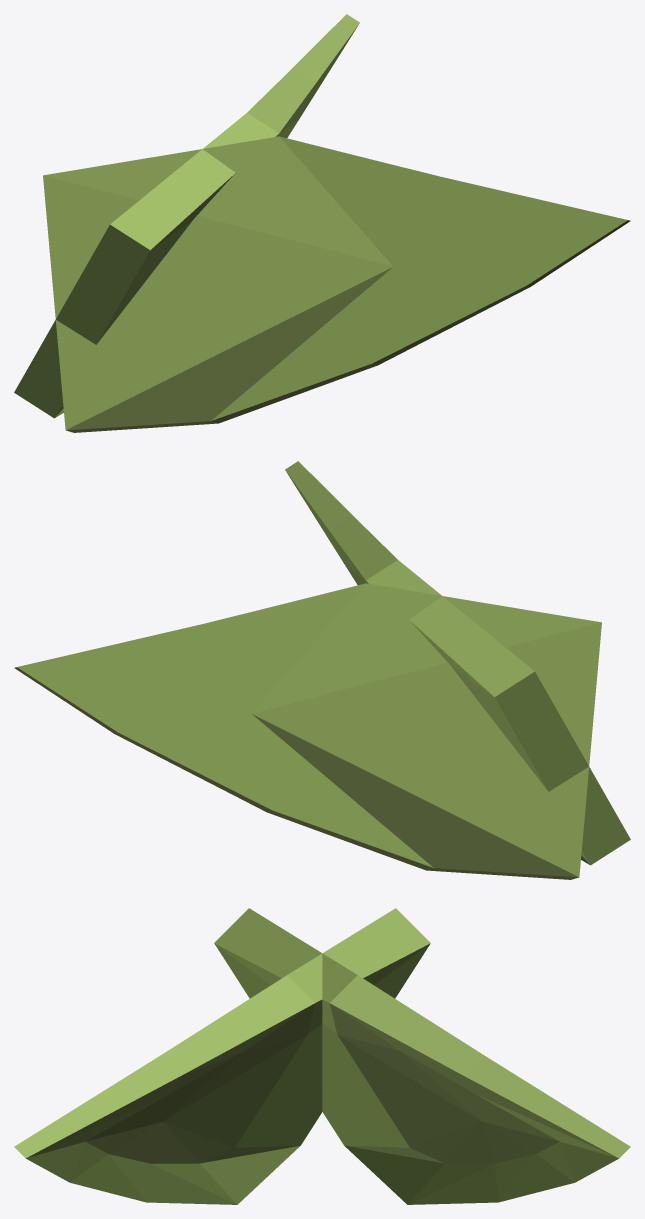
The model's file is gb_swept.glb.
The picture shows the model from 3 angles, top to bottom: view 1: azimuth 30°, elevation 25°; view 2: azimuth 150°, elevation 25°; view 3: azimuth 270°, elevation 25°; orthographic projection. The views are drawn at different scales.
Visible parts, largest first — view 1: Ear_R, Ear_L; view 2: Ear_L, Ear_R; view 3: Ear_L, Ear_R.
Boxes of the visible parts, x1,y1,x2,y2 form: Ear_R: [43, 136, 630, 432]; Ear_L: [14, 14, 359, 418]; Ear_L: [14, 583, 601, 879]; Ear_R: [285, 461, 630, 865]; Ear_L: [214, 908, 630, 1204]; Ear_R: [14, 908, 430, 1204].
Bounding box in the file's own units: 0.0986 × 0.0522 × 0.1055.
1 material, 1 textured.
